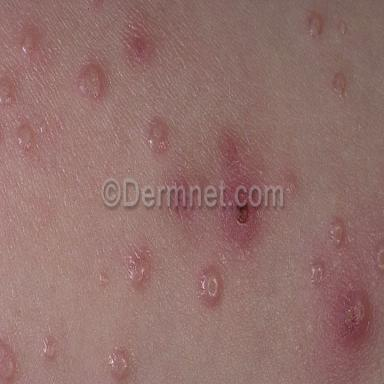Molluscum-Contagiosum: (127, 242, 152, 291), (108, 346, 137, 383), (78, 63, 107, 99), (199, 265, 223, 306), (148, 117, 170, 154), (0, 339, 16, 383), (282, 167, 300, 200), (21, 26, 39, 55), (329, 219, 346, 246), (17, 124, 34, 150), (331, 71, 347, 98), (42, 335, 58, 361), (0, 76, 14, 105), (308, 12, 323, 38), (373, 239, 384, 273), (311, 262, 324, 284), (99, 271, 109, 286), (339, 22, 347, 34)
